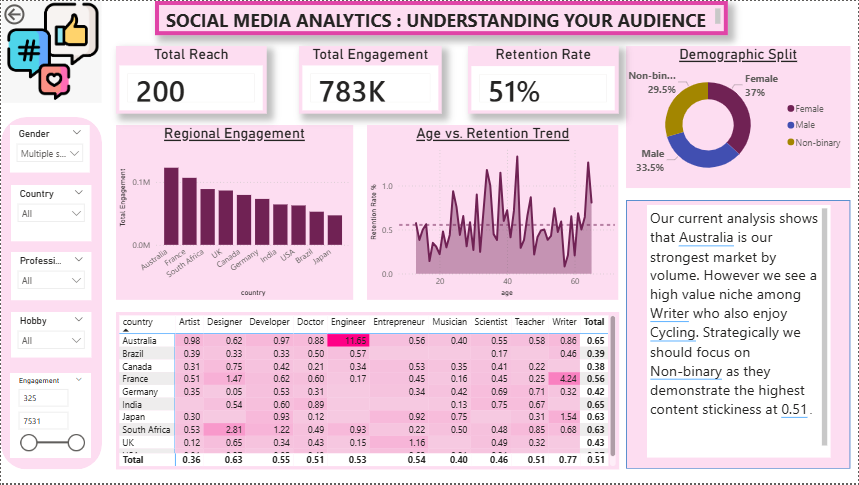

The page's visual inventory and layout, read from the dashboard file:
{"tool":"powerbi","page":{"name":"Page 1","canvas":[1280,720],"ordinal":0},"visuals":[{"type":"textbox","box":[230.4,0,855.1,50.7],"z":0},{"type":"shape","box":[0,172.5,150.7,526.1],"z":1000},{"type":"image","box":[0,0,150.7,152.2],"z":2000},{"type":"donutChart","title":"Demographic Split","fields":{"Category":["social_media_analysis.gender"],"Y":["Measures (2).Total Reach"]},"box":[933.3,66.7,334.8,211.6],"z":3000},{"type":"clusteredColumnChart","title":"Regional Engagement","fields":{"Y":["Measures (2).Total Engagement"],"Category":["social_media_analysis.country"]},"box":[171,185.5,353.6,260.9],"z":4000},{"type":"cardVisual","title":"Total Reach","fields":{"Data":["Measures (2).Total Reach"]},"box":[171,66.7,224.6,101.4],"z":5000},{"type":"cardVisual","title":"Total Engagement","fields":{"Data":["Measures (2).Total Engagement"]},"box":[444.9,66.7,213,101.4],"z":6000},{"type":"cardVisual","title":"Retention Rate ","fields":{"Data":["Measures (2).Retention Rate %"]},"box":[697.1,66.7,224.6,101.4],"z":7000},{"type":"areaChart","title":"Age vs. Retention Trend","fields":{"Category":["social_media_analysis.age"],"Y":["Measures (2).Retention Rate %"]},"box":[546.4,185.5,375.4,260.9],"z":8000},{"type":"pivotTable","fields":{"Rows":["social_media_analysis.country"],"Columns":["social_media_analysis.profession"],"Values":["Measures (2).Retention Rate %"]},"box":[171,463.8,750.7,234.8],"z":9000},{"type":"slicer","fields":{"Values":["social_media_analysis.country"]},"box":[14.5,275.4,120.3,84.1],"z":10000},{"type":"slicer","fields":{"Values":["social_media_analysis.profession"]},"box":[14.5,373.9,120.3,72.5],"z":11000},{"type":"slicer","fields":{"Values":["social_media_analysis.Total Engagement (Col)"]},"box":[13,555.1,120.3,126.1],"z":12000},{"type":"actionButton","box":[0,0,100,40],"z":13000},{"type":"slicer","fields":{"Values":["social_media_analysis.gender"]},"box":[13,185.5,118.8,71],"z":14000},{"type":"slicer","fields":{"Values":["social_media_analysis.hobby"]},"box":[14.5,463.8,120.3,68.1],"z":15000},{"type":"shape","box":[933.3,297.1,334.8,401.4],"z":16000},{"type":"textbox","box":[963.8,304.3,273.9,376.8],"z":16001}]}

Visuals, with their boxes in screenshot pixels (x1, y1, x2, y2), scaled from the page's 1280x720 canvas onto the 859x485 screenshot:
textbox: (155,0,728,34)
shape: (0,116,101,471)
image: (0,0,101,103)
"Demographic Split" donutChart: (626,45,851,187)
"Regional Engagement" clusteredColumnChart: (115,125,352,301)
"Total Reach" cardVisual: (115,45,265,113)
"Total Engagement" cardVisual: (299,45,442,113)
"Retention Rate " cardVisual: (468,45,619,113)
"Age vs. Retention Trend" areaChart: (367,125,619,301)
pivotTable - social_media_analysis.country x social_media_analysis.profession: (115,312,619,471)
slicer - social_media_analysis.country: (10,186,90,242)
slicer - social_media_analysis.profession: (10,252,90,301)
slicer - social_media_analysis.Total Engagement (Col): (9,374,89,459)
actionButton: (0,0,67,27)
slicer - social_media_analysis.gender: (9,125,88,173)
slicer - social_media_analysis.hobby: (10,312,90,358)
shape: (626,200,851,471)
textbox: (647,205,831,459)
